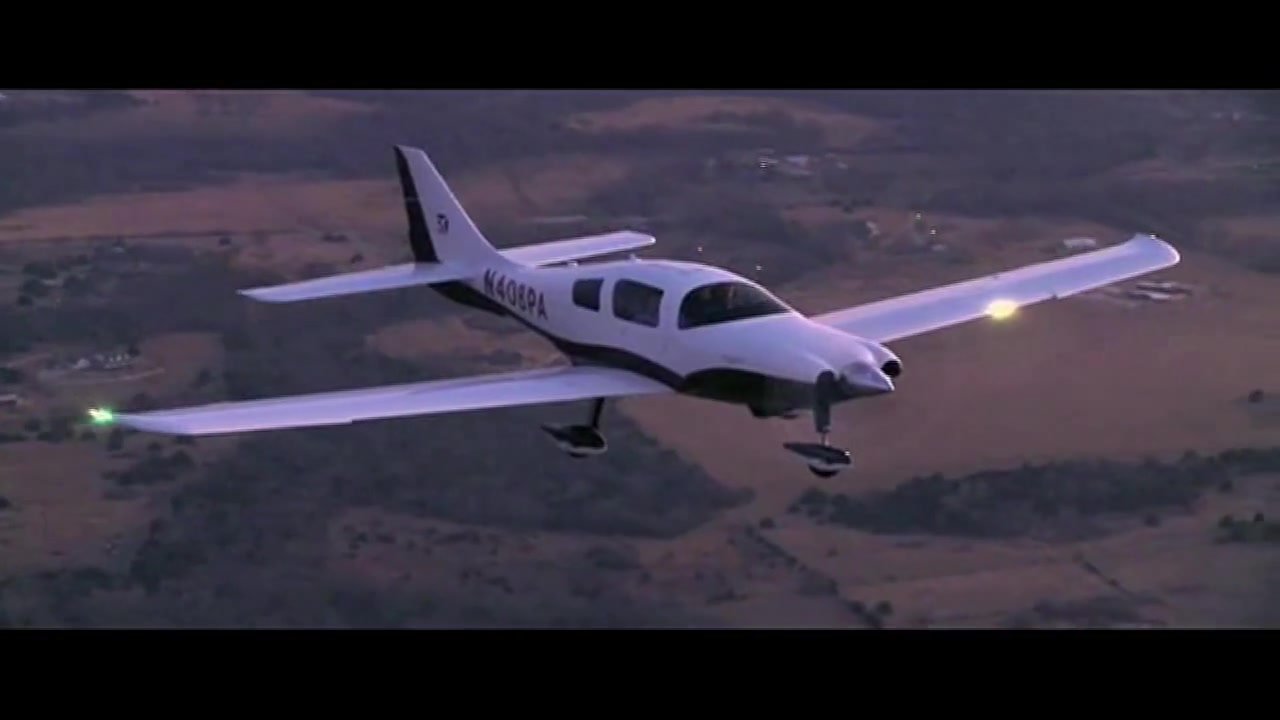aeroplane: (94, 127, 1186, 483)
